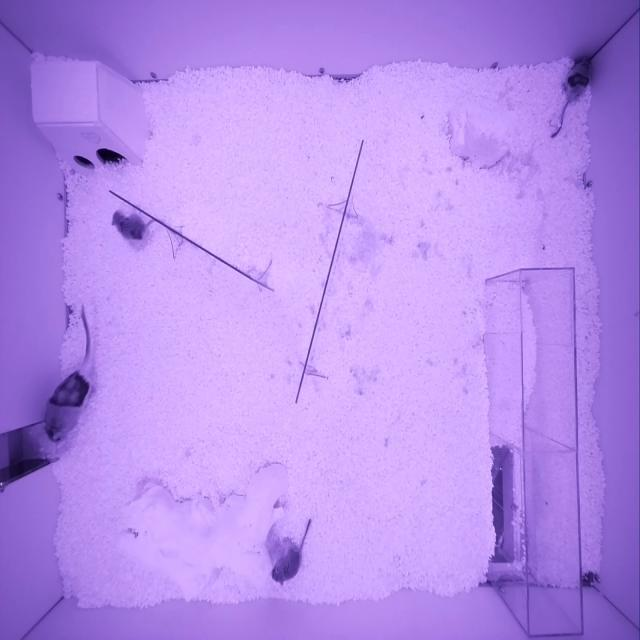adult_back: (42, 370, 93, 442)
pup_fluffy: (272, 546, 301, 586)
pup_h_stripe: (565, 59, 591, 100)
pup_spotted: (111, 211, 146, 240)
